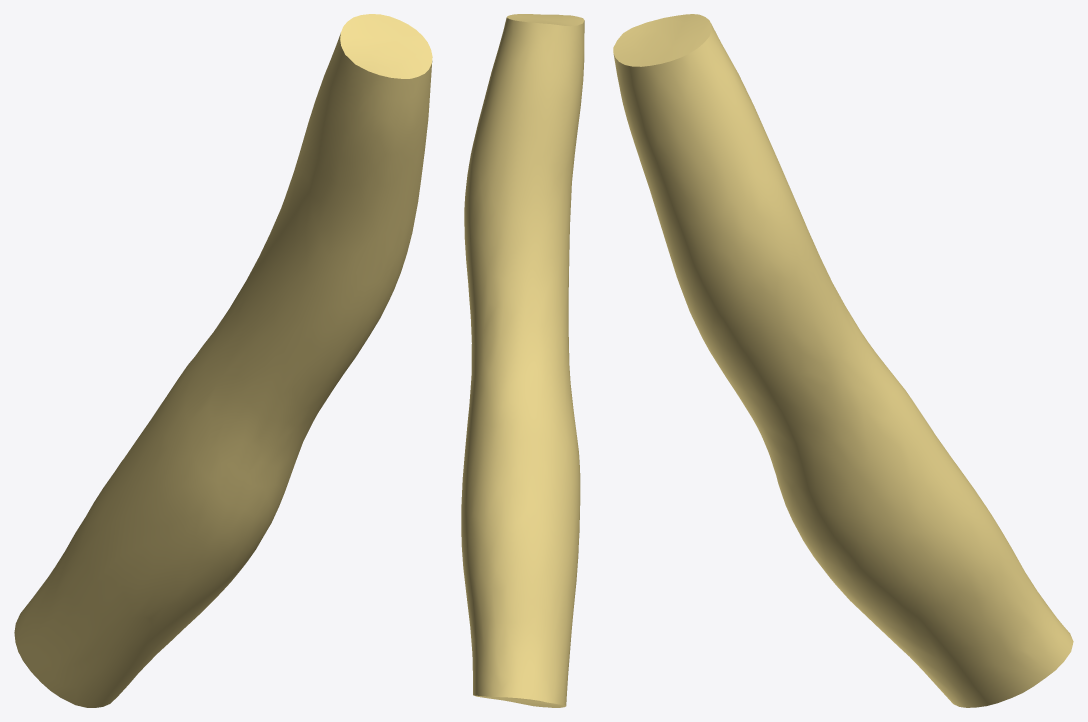
The model's file is fma235324-l_mm3534.glb.
3 renders of one model, left to right at view 1: azimuth 30°, elevation 25°; view 2: azimuth 150°, elevation 25°; view 3: azimuth 270°, elevation 25°, orthographic. The views are drawn at different scales.
Parts seen in each view (by area): view 1: FMA235324-L_MM3534; view 2: FMA235324-L_MM3534; view 3: FMA235324-L_MM3534.
Part boxes in pixels (box(x1,y1,x2,y2)): FMA235324-L_MM3534: box(14, 14, 432, 707); FMA235324-L_MM3534: box(461, 14, 584, 707); FMA235324-L_MM3534: box(613, 14, 1073, 707).
Size of the model in its own units: 0.00462 by 0.0135 by 0.00756.
